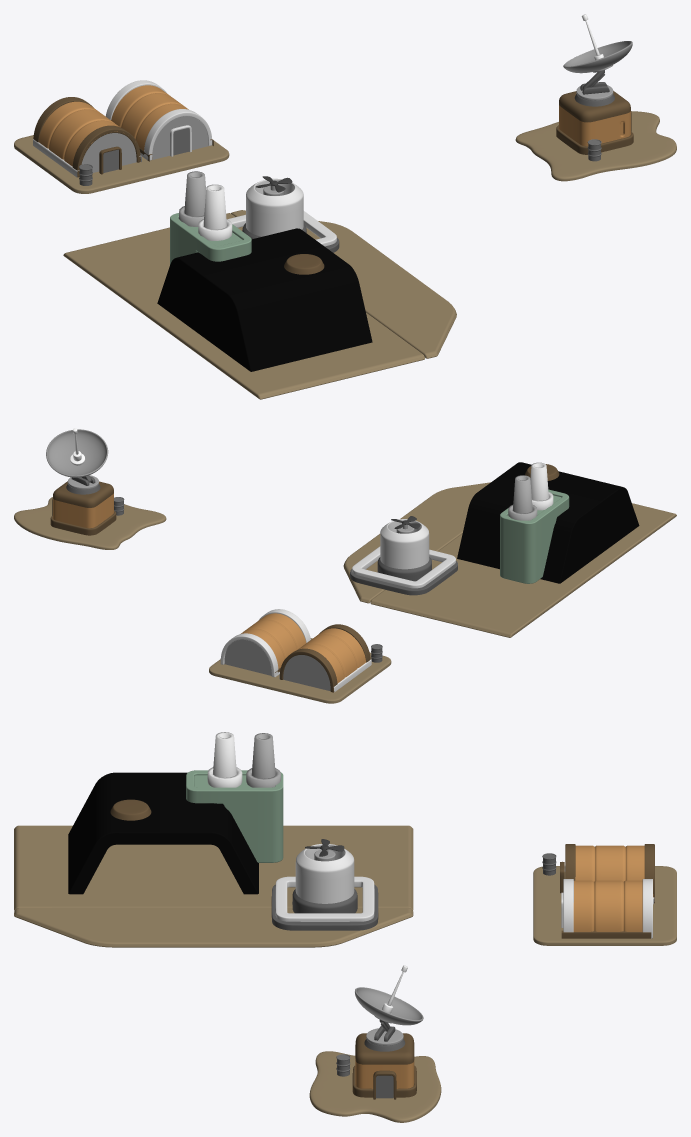
3 views of the same model, one above another, from view 1: azimuth 30°, elevation 25°; view 2: azimuth 150°, elevation 25°; view 3: azimuth 270°, elevation 25° (orthographic). The views are drawn at different scales.
Parts seen in each view (by area): view 1: aergaerg, Plane.ertyswrt, Vert.002, Plane.sdgfhbsdfg, Circle.021, Cylinder.005, Cylinder.012, Plane.058, Plane.002, Circle.002, Cylinder.004, Cylinder.006 (+8 smaller); view 2: aergaerg, Plane.ertyswrt, Plane.058, Vert.002, Plane.sdgfhbsdfg, Circle.016, Circle.021, Cylinder.005, Cylinder.012, Plane.049, Plane.002, Cylinder.003 (+9 smaller); view 3: aergaerg, Plane.ertyswrt, Vert.002, Plane.058, Plane.sdgfhbsdfg, Cylinder.012, Circle.021, Cylinder.005, Plane.049, Circle.016, Circle.002, Circle.001 (+8 smaller).
Part boxes in pixels (bbox=[...]): aergaerg: bbox=[63, 210, 456, 399]; Plane.ertyswrt: bbox=[157, 228, 372, 371]; Vert.002: bbox=[515, 111, 676, 181]; Plane.sdgfhbsdfg: bbox=[14, 135, 229, 193]; Circle.021: bbox=[246, 178, 303, 236]; Cylinder.005: bbox=[38, 101, 119, 166]; Cylinder.012: bbox=[111, 85, 188, 150]; Plane.058: bbox=[170, 213, 251, 264]; Plane.002: bbox=[559, 105, 630, 146]; Circle.002: bbox=[198, 184, 232, 240]; Cylinder.004: bbox=[105, 80, 212, 160]; Cylinder.006: bbox=[33, 97, 140, 177]; aergaerg: bbox=[343, 482, 676, 637]; Plane.ertyswrt: bbox=[457, 462, 639, 583]; Plane.058: bbox=[500, 489, 569, 583]; Vert.002: bbox=[14, 497, 166, 549]; Plane.sdgfhbsdfg: bbox=[209, 638, 391, 703]; Circle.016: bbox=[46, 429, 108, 477]; Circle.021: bbox=[380, 519, 429, 569]; Cylinder.005: bbox=[297, 628, 366, 692]; Cylinder.012: bbox=[241, 613, 306, 668]; Plane.049: bbox=[352, 546, 455, 588]; Plane.002: bbox=[53, 493, 113, 528]; Cylinder.003: bbox=[283, 655, 330, 691]; aergaerg: bbox=[14, 825, 413, 947]; Plane.ertyswrt: bbox=[68, 772, 258, 894]; Vert.002: bbox=[309, 1051, 441, 1122]; Plane.058: bbox=[186, 770, 283, 862]; Plane.sdgfhbsdfg: bbox=[533, 866, 676, 945]; Cylinder.012: bbox=[573, 880, 642, 931]; Circle.021: bbox=[295, 844, 354, 903]; Cylinder.005: bbox=[575, 845, 654, 903]; Plane.049: bbox=[275, 876, 374, 921]; Circle.016: bbox=[355, 987, 423, 1025]; Circle.002: bbox=[207, 732, 242, 787]; Circle.001: bbox=[246, 733, 280, 787].
Size of the model in its own units: 4612 by 931 by 4433.
